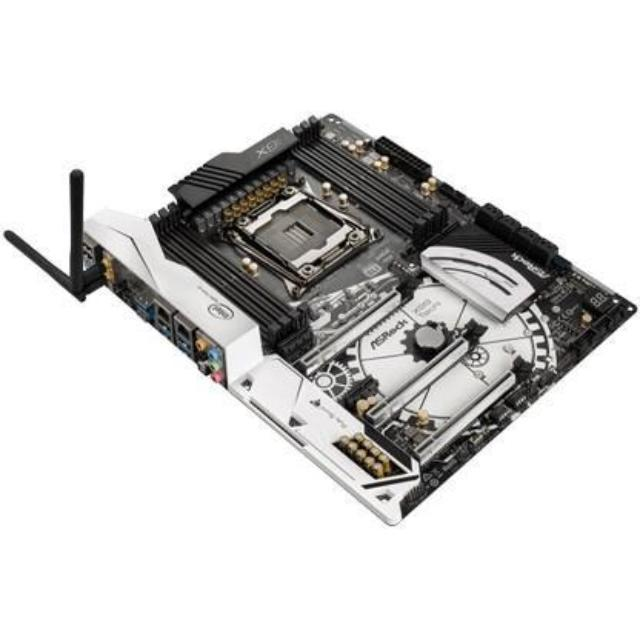Mainboard: (62, 90, 640, 528)
